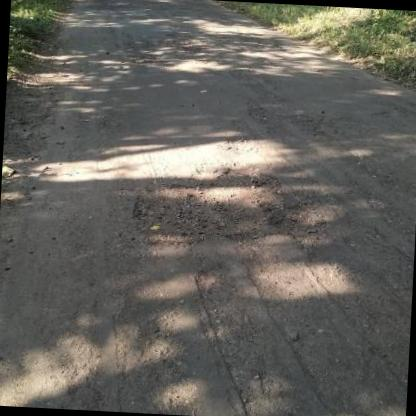pothole: (124, 156, 296, 248)
